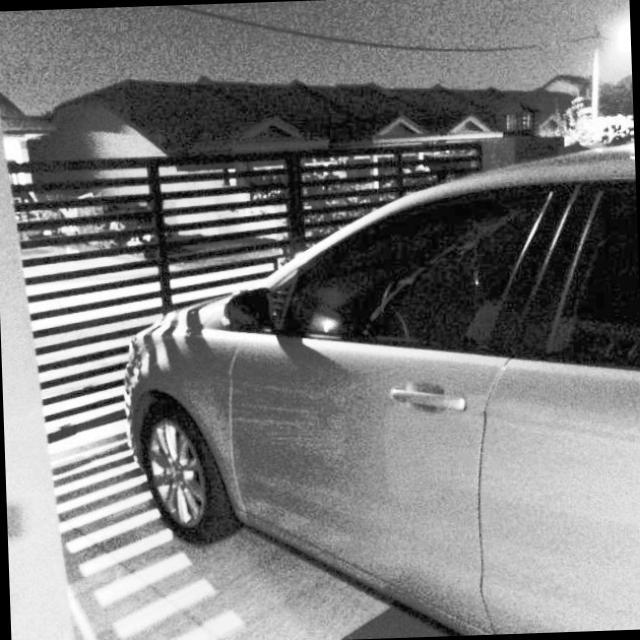Car: (54, 132, 640, 640)
